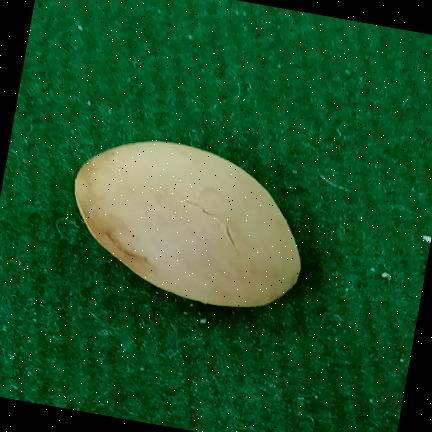parchment: (75, 142, 301, 307)
